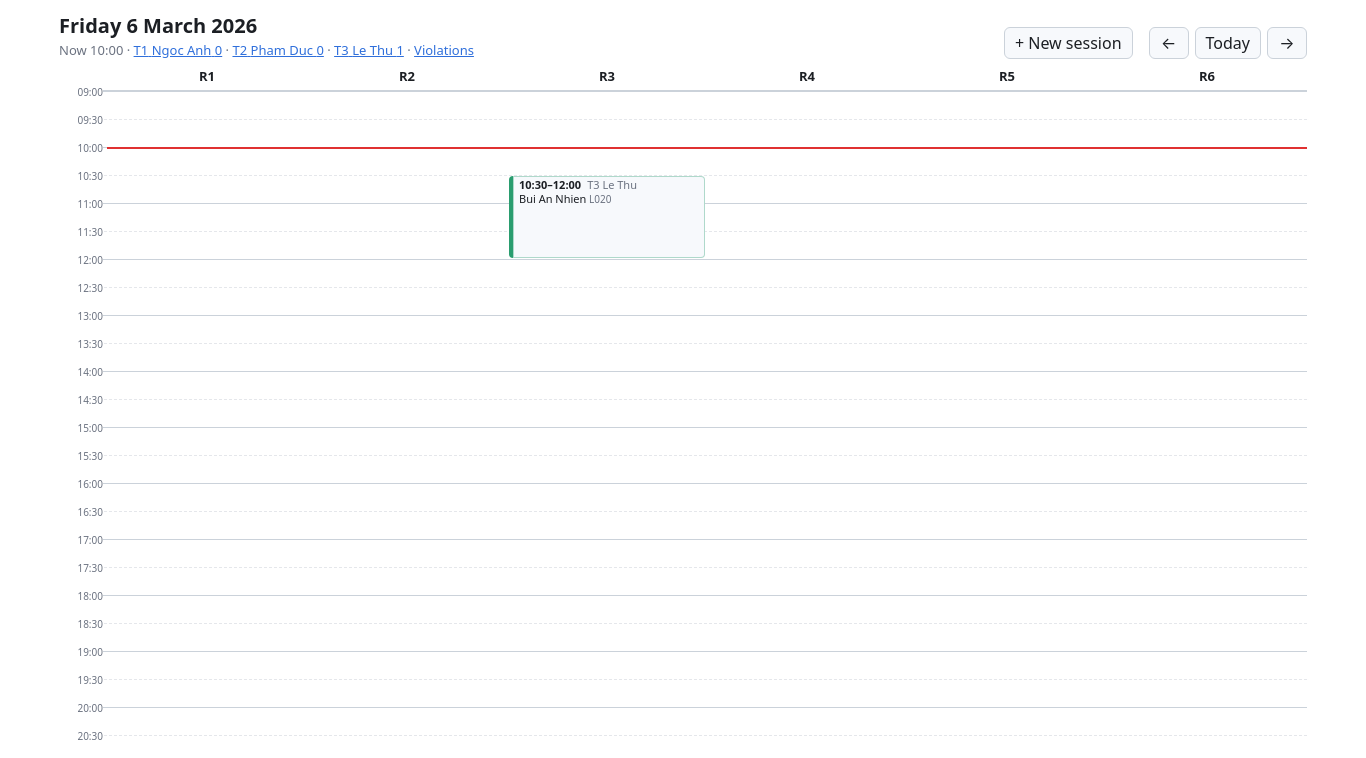
Test case: DayPage › opens the create form from + New session
Click the button "+ New session" at (1068, 43), box [1004,27,1132,59]
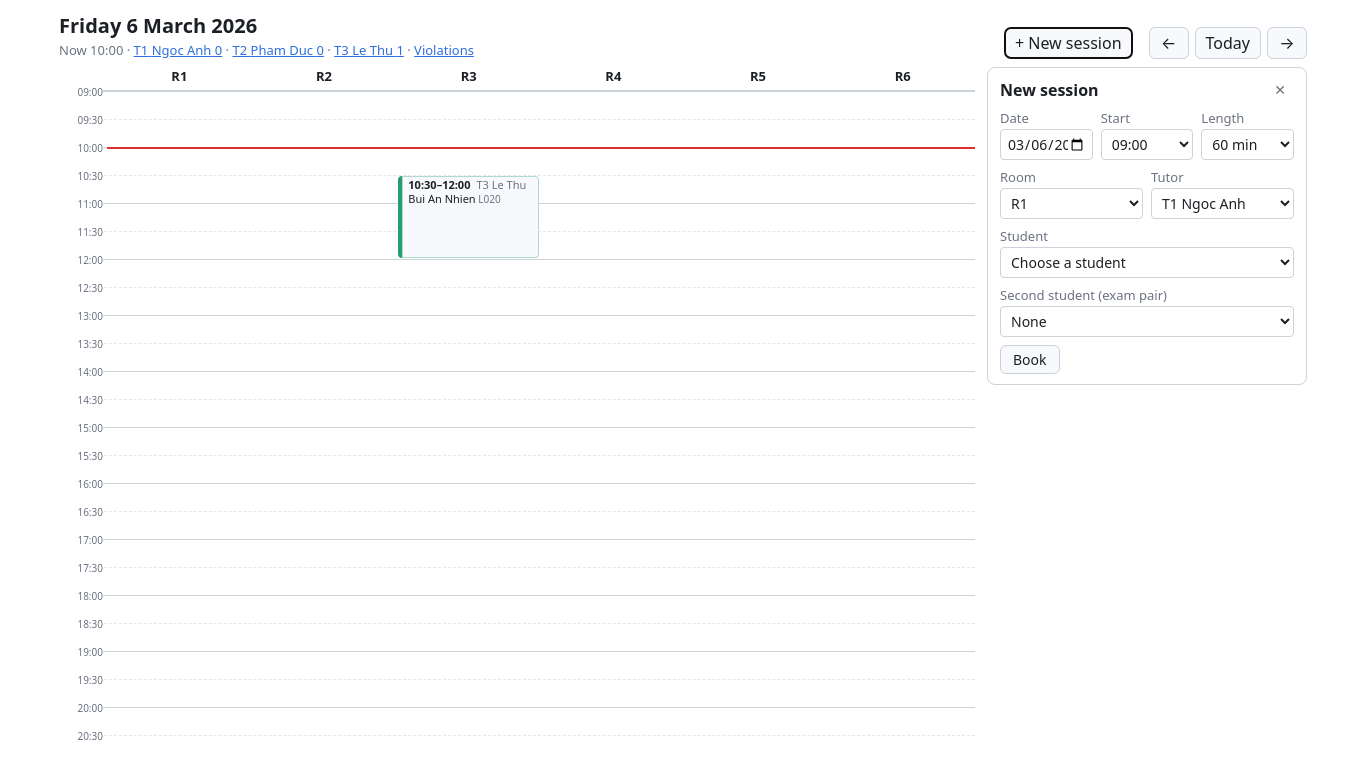
Check: the element "New session" is shown, box [987,67,1307,385]
Check: the date field labelled "Date" holds "2026-03-06", box [1000,129,1093,160]
